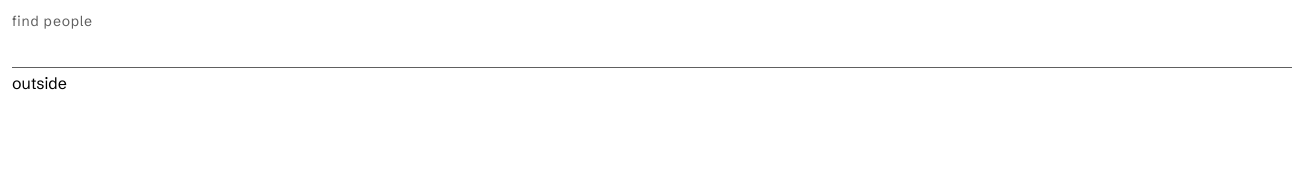
Test: HeaderSearch › F-105: a failed search says so and "try again" searches again
Type "mina" into the dropdown labelled "find people".
click(652, 52); type("mina")  # box left=12, top=36, right=1292, bottom=68
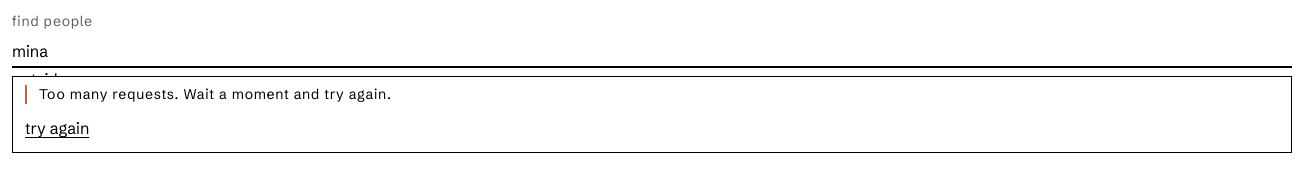
Expected: the text "Too many requests. Wait a moment and try again." is shown, left=25, top=85, right=1279, bottom=104
Click the button "try again".
click(57, 128)  # box left=25, top=116, right=89, bottom=140
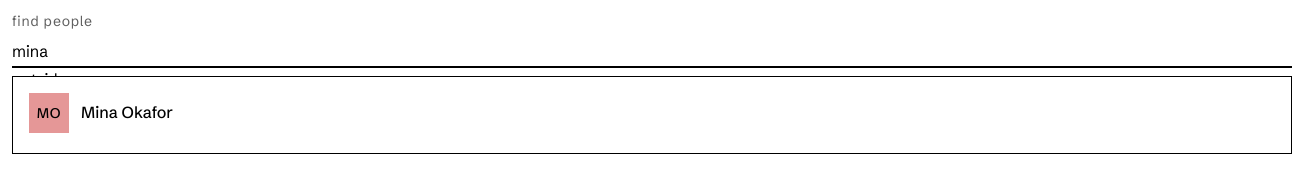
Expected: the option "MO Mina Okafor" is shown, left=29, top=93, right=173, bottom=133
